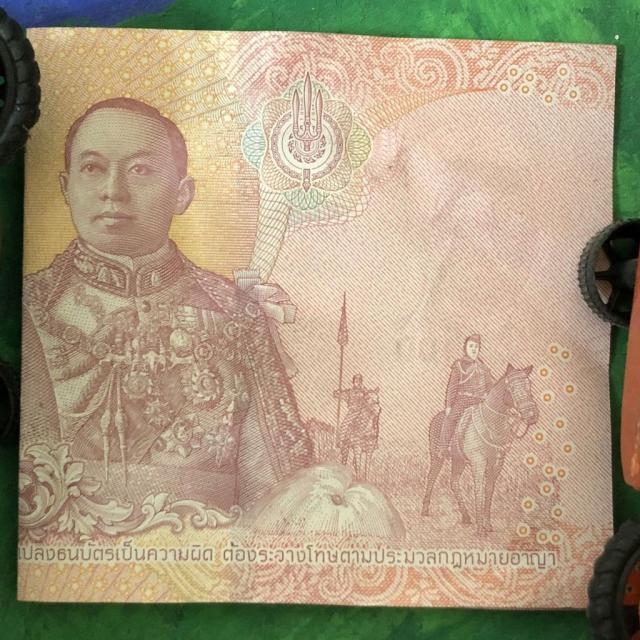THAI100: (18, 29, 616, 609)
